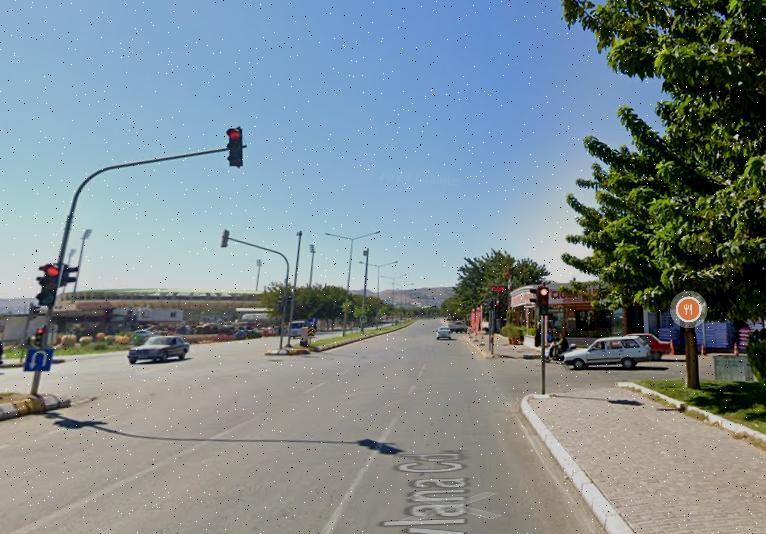redlight: (36, 262, 61, 311), (227, 125, 245, 166), (537, 286, 550, 316)
